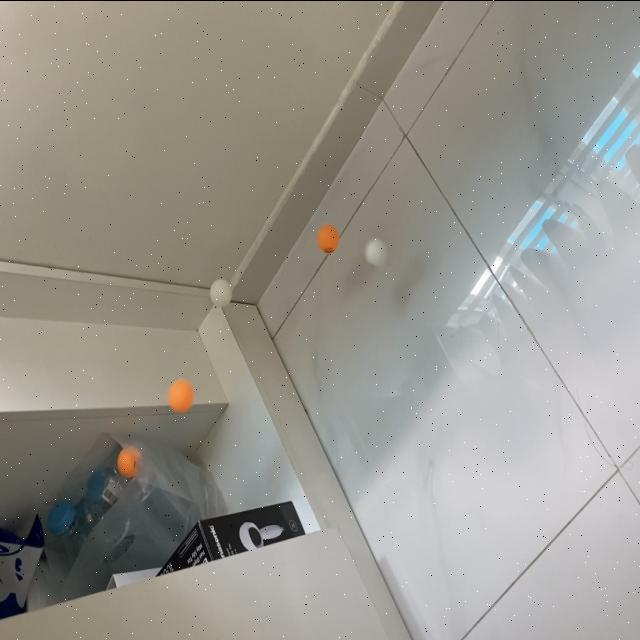ping-pong-ball: (362, 235, 390, 269), (169, 377, 195, 411), (117, 446, 143, 478), (317, 222, 342, 254), (210, 277, 232, 305)
